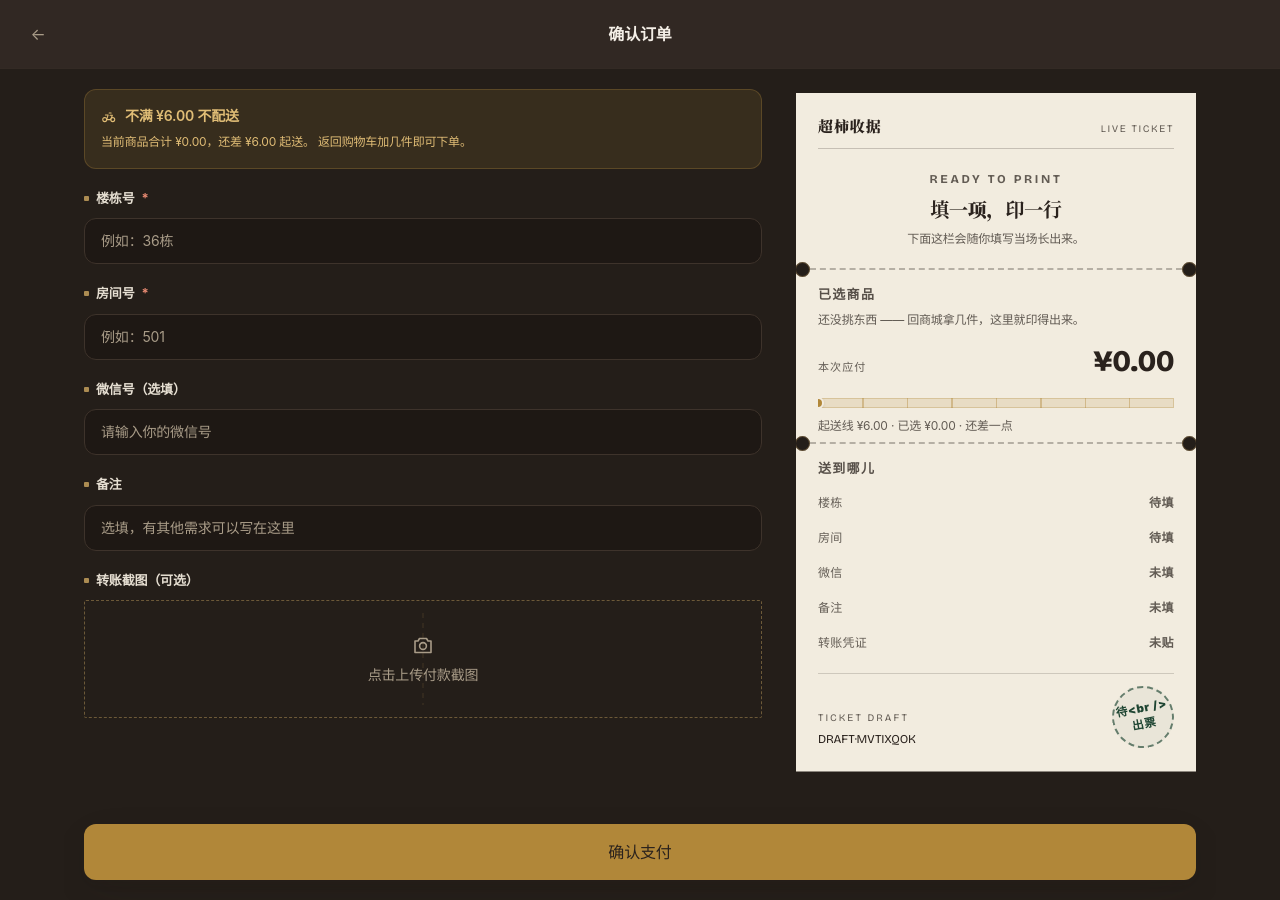
Test: OrderConfirmPage 剩余分支 › 购物车为空时阻止提交（防止只填地址打出空单）
Type "36栋" into the field with placeholder "例如：36栋" at [423, 241], box [84,218,762,264]
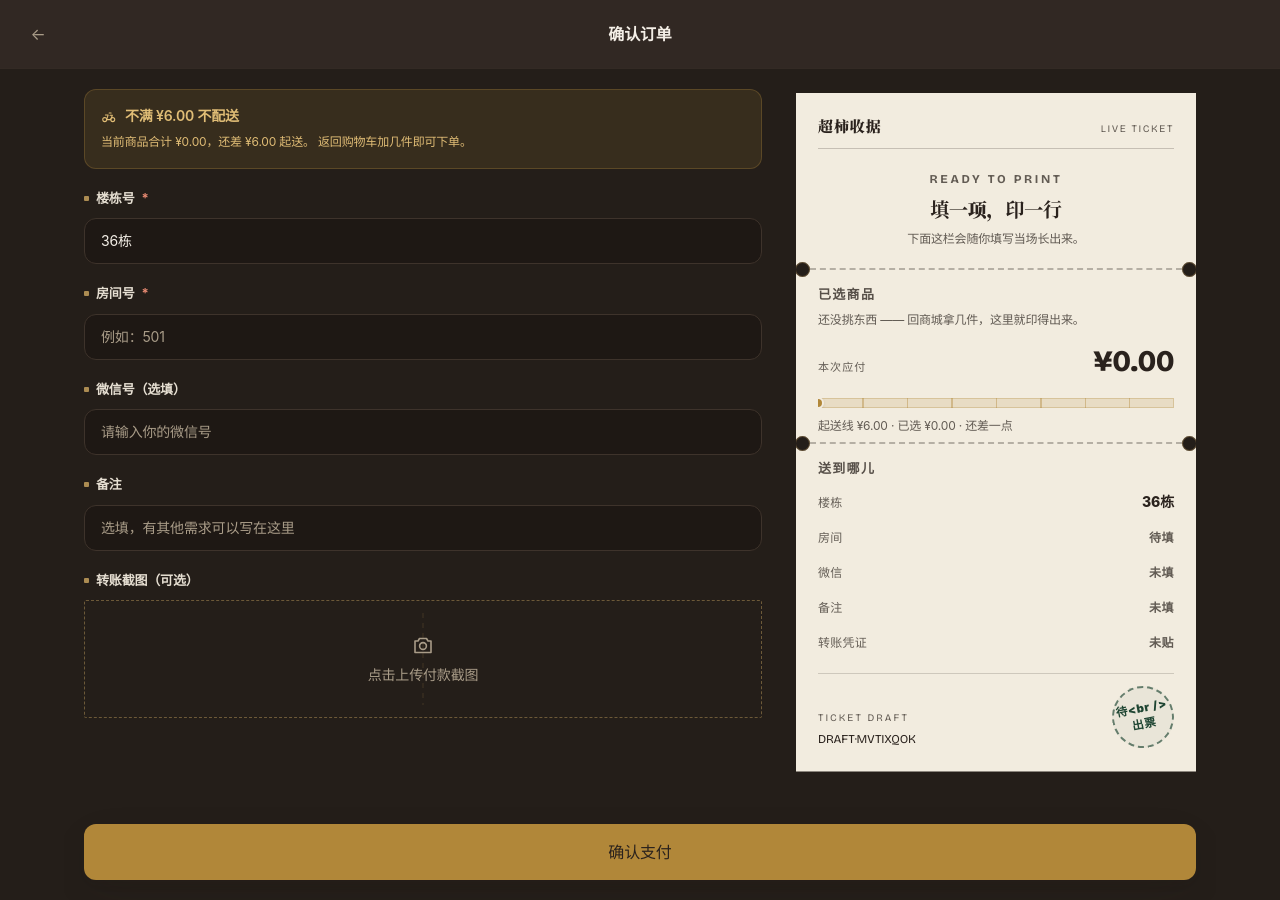
Type "305" into the field with placeholder "例如：501" at [423, 336], box [84,314,762,360]
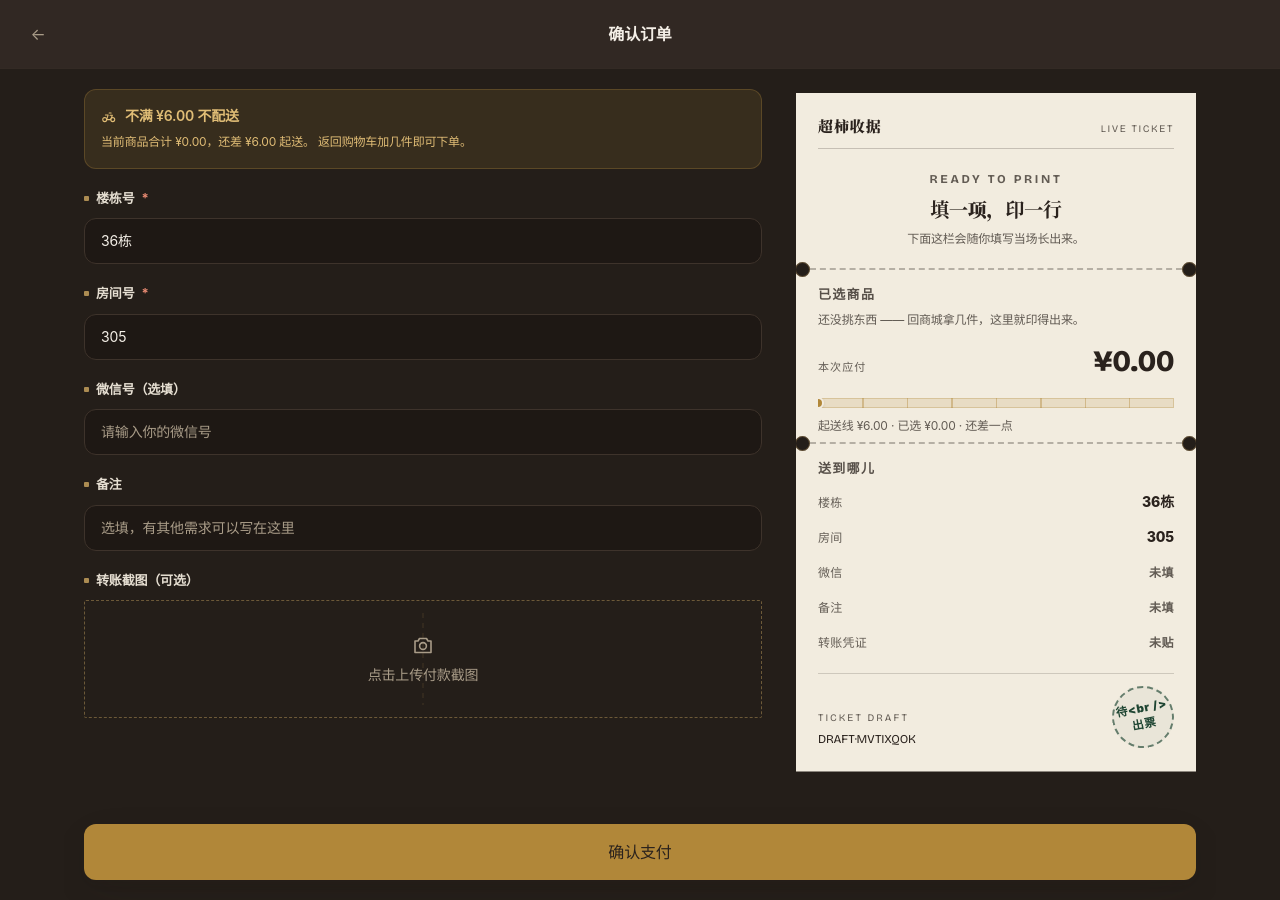
Click the button "确认支付" at [640, 852], box [84,824,1196,880]
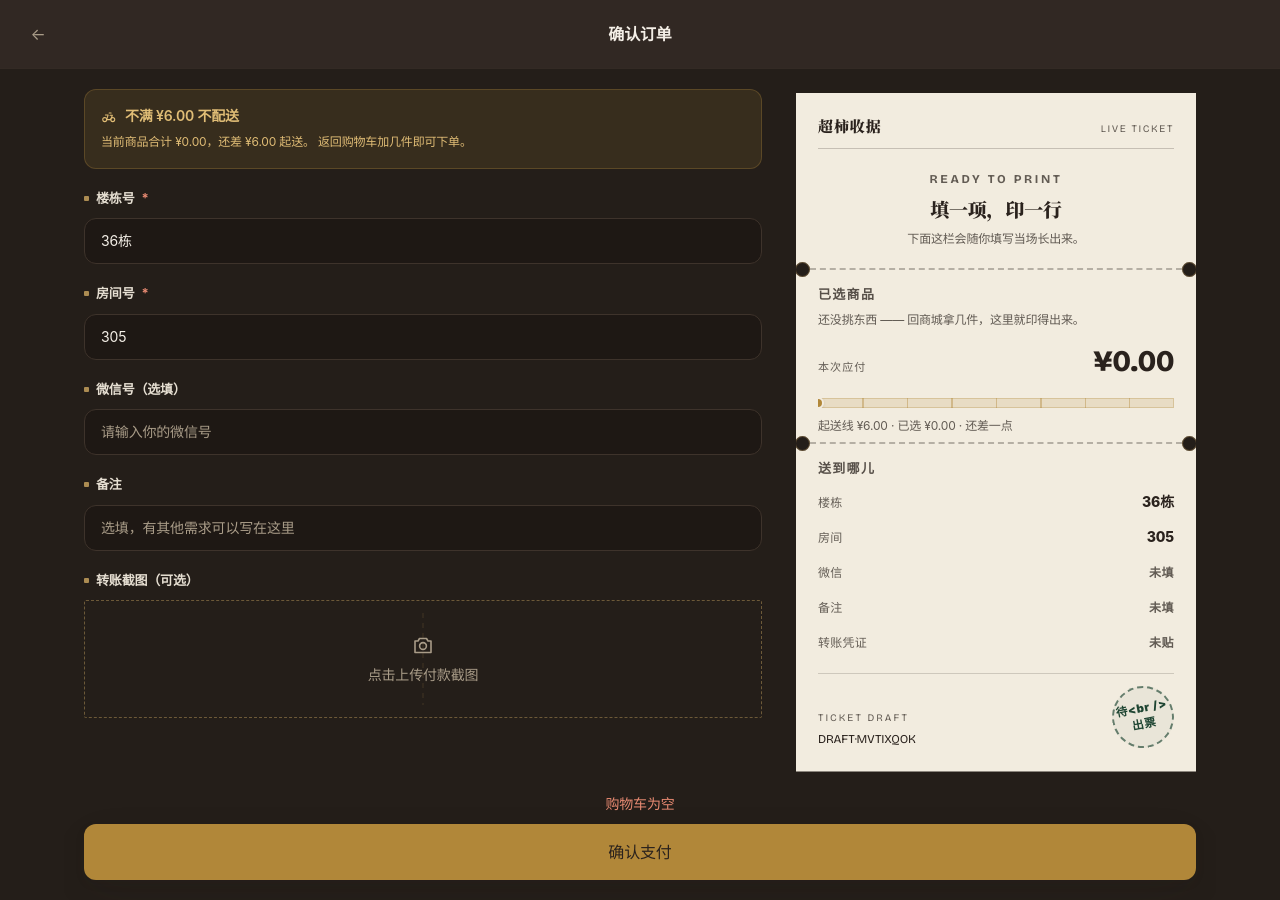
Result: the text "购物车为空" is shown at [605,795,674,812]
